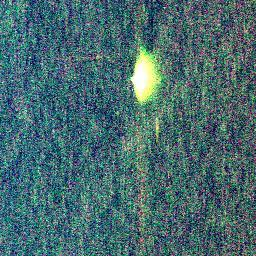Ship: (128, 51, 159, 103), (150, 117, 165, 140)
